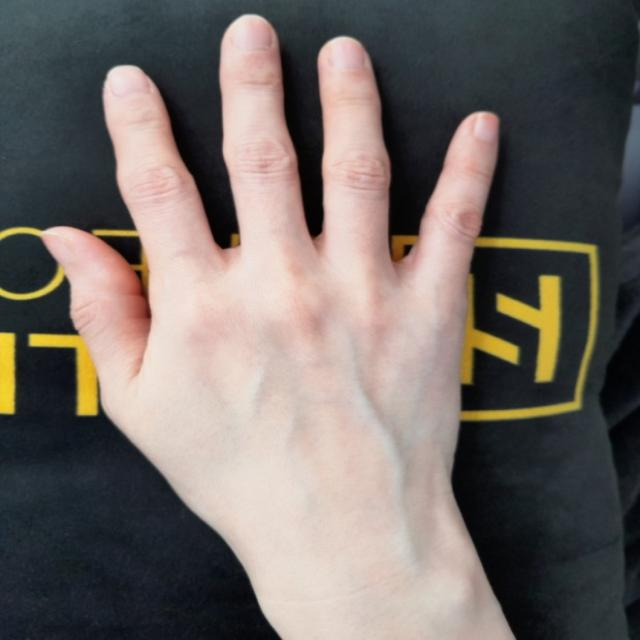Nail: (41, 231, 77, 269), (106, 67, 150, 98), (230, 16, 271, 48), (327, 38, 364, 69), (474, 111, 499, 142)
